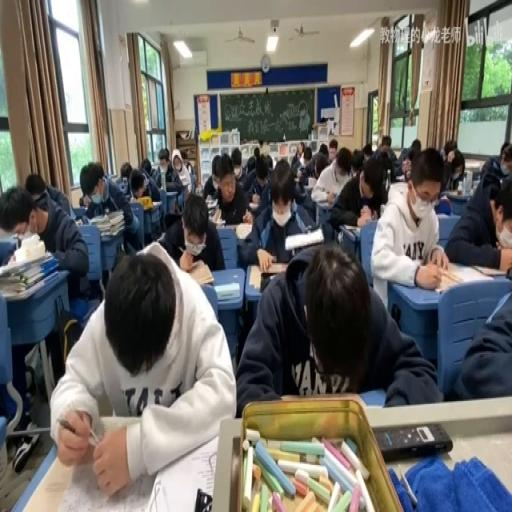calculator: (146, 431, 220, 509), (374, 422, 451, 461), (432, 258, 503, 288), (133, 198, 162, 243), (182, 258, 214, 284), (285, 228, 322, 250), (216, 219, 250, 236), (247, 263, 268, 290), (214, 282, 240, 300), (261, 260, 287, 273), (210, 206, 224, 224), (310, 188, 328, 202), (443, 189, 465, 199), (342, 222, 358, 233), (204, 195, 218, 206), (88, 213, 104, 222), (306, 176, 316, 188), (102, 171, 116, 179), (247, 202, 259, 210), (150, 199, 162, 206), (74, 216, 82, 225), (395, 172, 405, 179)
paper: (50, 242, 232, 493), (237, 243, 435, 415), (2, 175, 88, 301), (445, 152, 512, 270), (450, 277, 511, 401), (78, 158, 138, 260), (158, 191, 224, 273), (328, 152, 386, 238), (204, 155, 251, 230), (154, 145, 186, 205), (245, 150, 271, 200), (438, 145, 465, 193), (373, 134, 398, 178), (392, 144, 418, 182), (479, 156, 501, 180), (293, 172, 308, 203), (230, 147, 244, 179), (314, 154, 329, 179), (350, 150, 364, 176), (290, 142, 303, 169), (118, 162, 132, 186), (185, 161, 197, 189), (138, 158, 152, 178), (302, 146, 312, 168), (328, 139, 338, 161), (410, 136, 421, 154), (362, 142, 372, 160), (264, 154, 274, 172), (500, 141, 510, 158), (318, 144, 328, 156), (260, 144, 269, 156), (253, 145, 259, 161), (173, 158, 180, 171)
person: (193, 488, 211, 509)
